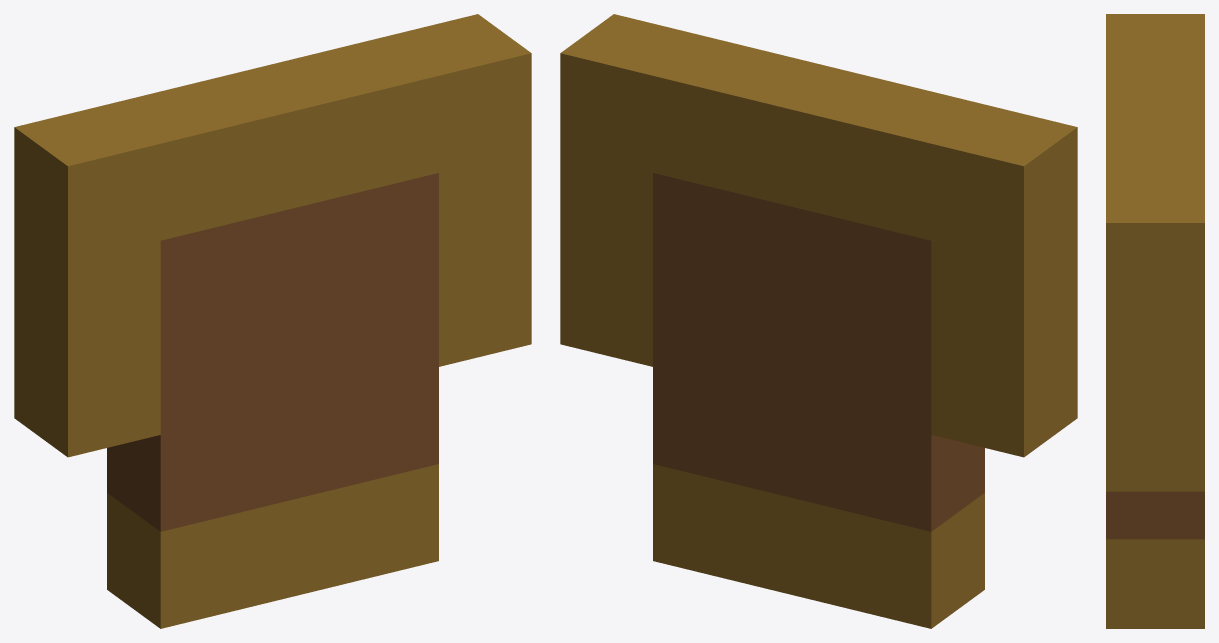
Rendered from Bread.fbx.
3 renders of one model, left to right at view 1: azimuth 30°, elevation 25°; view 2: azimuth 150°, elevation 25°; view 3: azimuth 270°, elevation 25°, orthographic. The views are drawn at different scales.
Visible parts, largest first — view 1: Pan; view 2: Pan; view 3: Pan.
Boxes of the visible parts, bbox=[...] form: Pan: bbox=[14, 14, 531, 628]; Pan: bbox=[560, 14, 1077, 628]; Pan: bbox=[1106, 14, 1204, 628].
Bounding box in the file's own units: 50 × 50 × 10.
